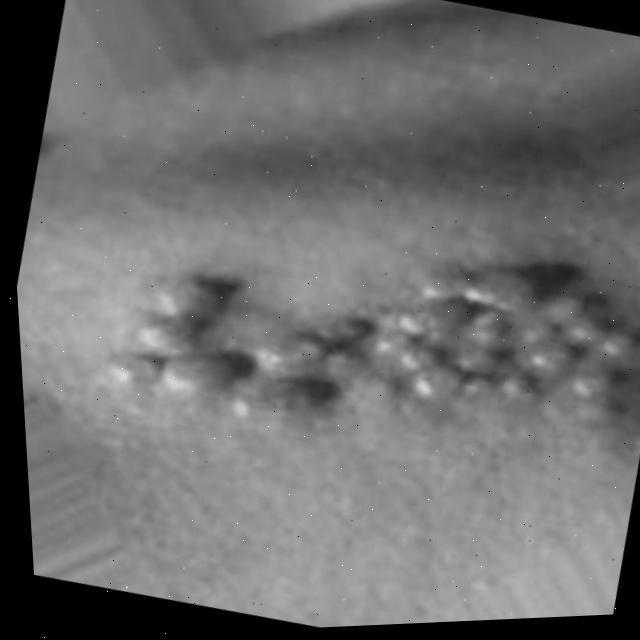Shingles: (89, 159, 640, 517)
